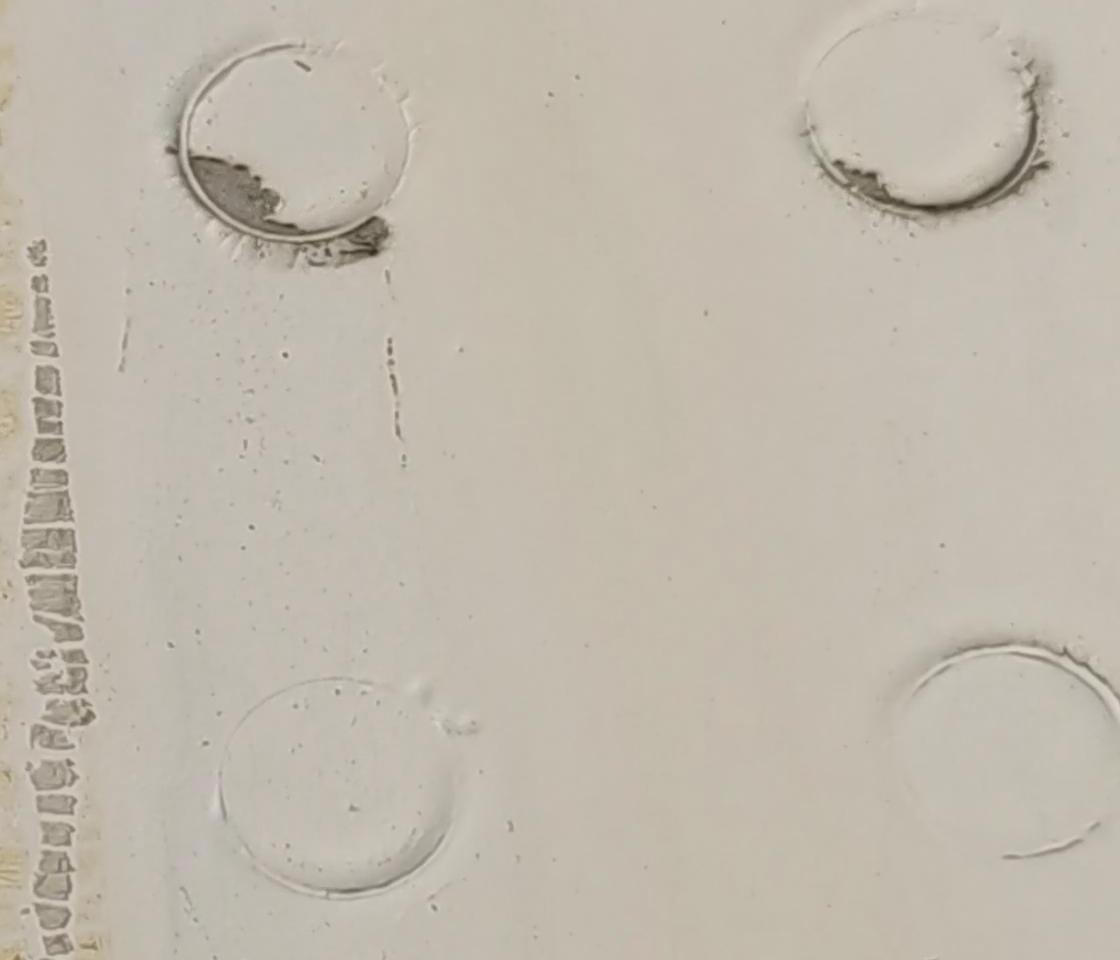paint_peel: (176, 144, 304, 243), (820, 148, 901, 225)
